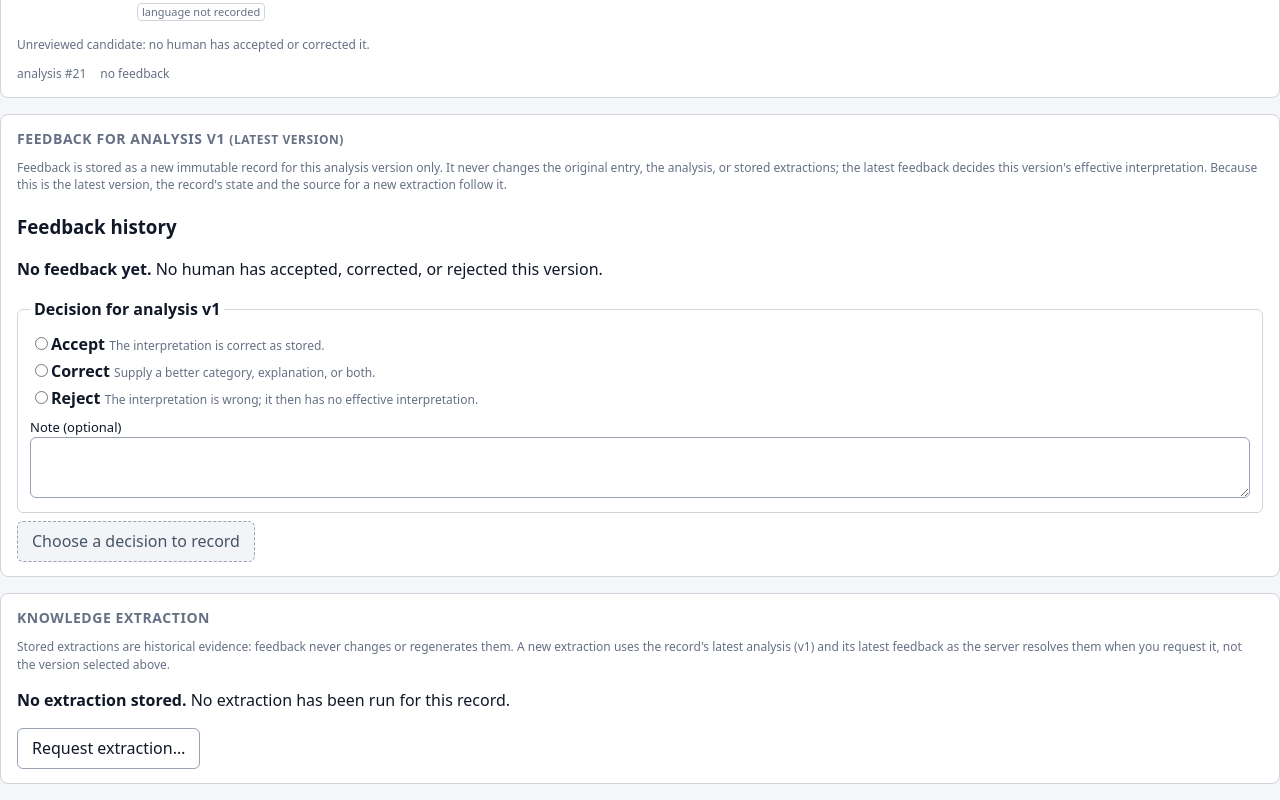
Test: StrictMode: responses settle after effect replay › extraction: a 503 answer clears pending and is followed by a successful re-read
(page scrolled)
expect the text "No extraction stored." is shown: met, box [17,689,186,711]
What coordinates should you click on to do the following:
click the button "Request extraction…"
I would click on:
 (109, 749)
Its box is [17,728,200,769].
(page scrolled)
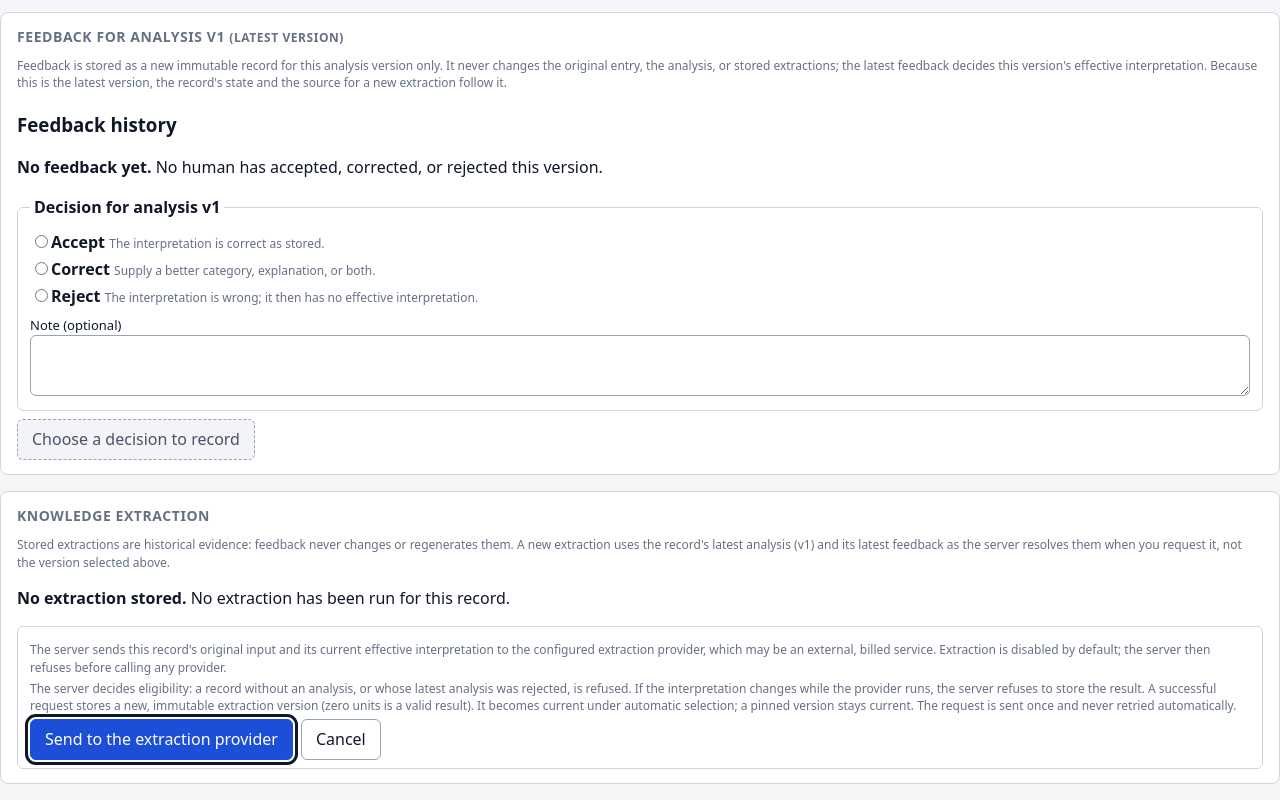
What coordinates should you click on to do the following:
click the button "Send to the extraction provider"
I would click on:
 (161, 739)
Its box is [30,719,293,760].
(page scrolled)
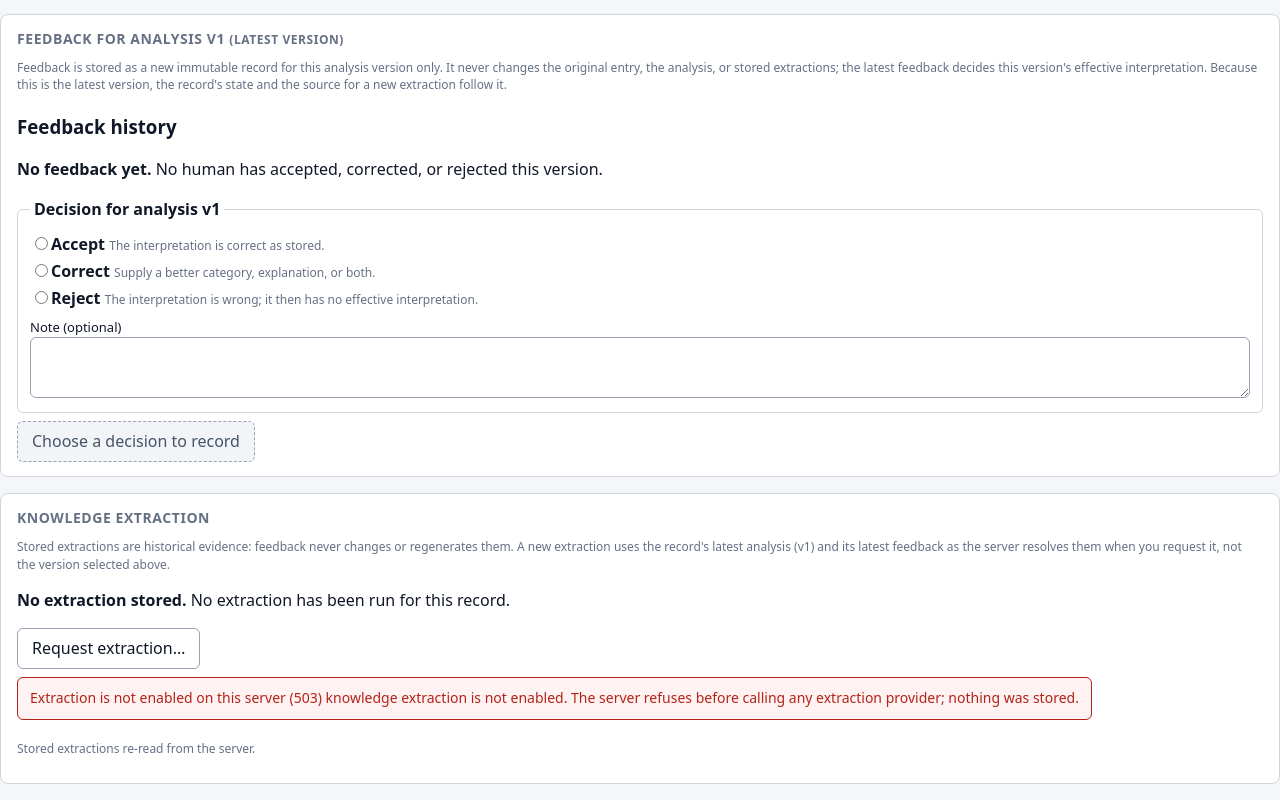
expect the button "Request extraction…" is enabled: met, box [17,628,200,669]
expect the 1st message is shown: met, box [17,677,1092,720]
expect the message "Stored extractions re-read from the server." is shown: met, box [17,740,255,757]
